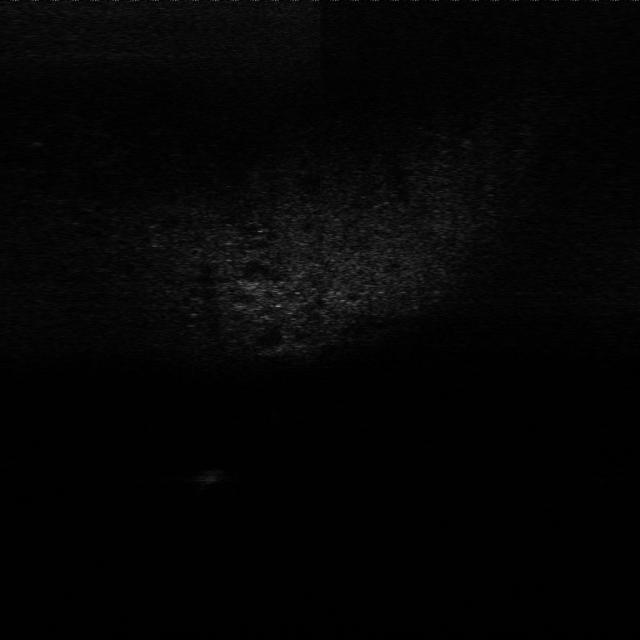cylinder: (198, 468, 227, 486)
